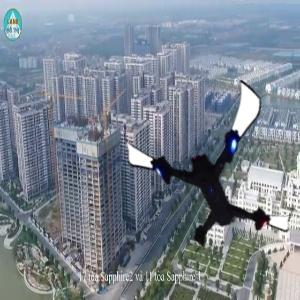drone: (123, 91, 288, 256)
